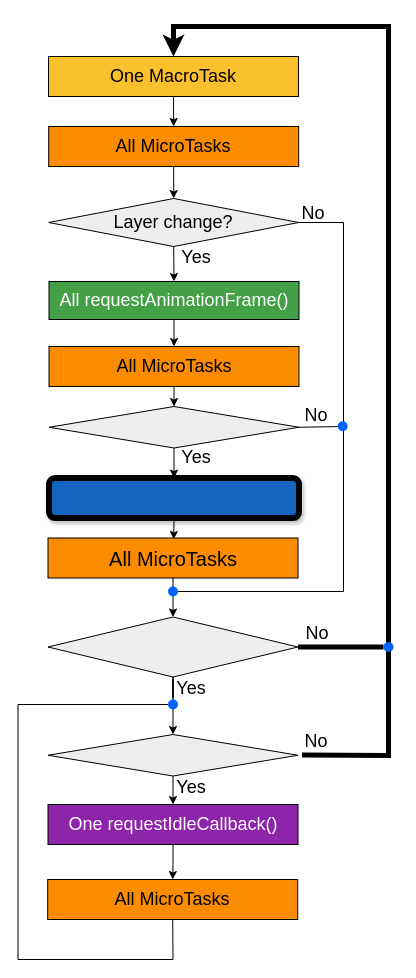
Image size: 416x978. Some labels were removed from this diagram. Each missing label, with the centre of its shape:
Free time?*: point (172, 755)
No Macrotasks?: point (172, 646)
Render: point (175, 499)
Render?: point (173, 427)
